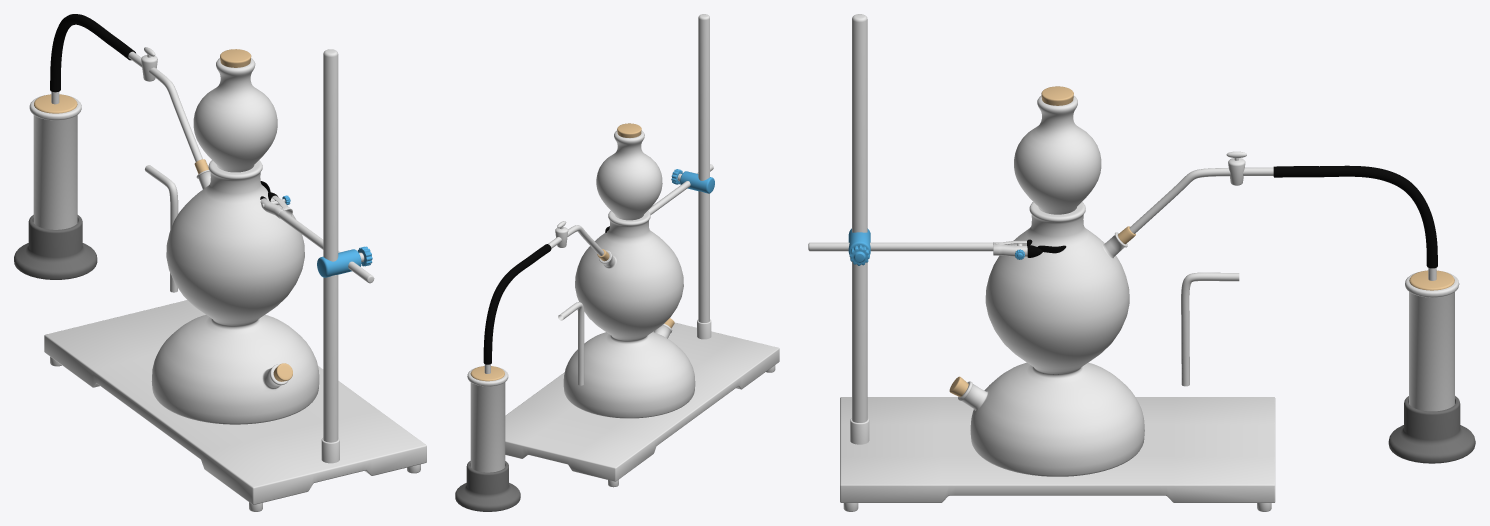
The model's file is Laborotory.fbx.
3 renders of one model, left to right at view 1: azimuth 30°, elevation 25°; view 2: azimuth 150°, elevation 25°; view 3: azimuth 270°, elevation 25°, orthographic. The views are drawn at different scales.
Parts seen in each view (by area): view 1: MainKipp, Shativ1, MainKipp2, Shativ2, Probirka, DT1, RezinkaTrubka, Shativ2.001, TrubkaSteklo1, TrubkaSteklo1.001, ProbkaProbirka, Probka3; view 2: MainKipp, Shativ1, MainKipp2, Shativ2, Probirka, DT1, RezinkaTrubka, Shativ2.001, TrubkaSteklo1.001, TrubkaSteklo1, ProbkaProbirka; view 3: MainKipp, Shativ1, MainKipp2, Shativ2, Probirka, DT1, RezinkaTrubka, Shativ2.001, TrubkaSteklo1.001, TrubkaSteklo1.
Boxes of the visible parts, x1,y1,x2,y2 form: MainKipp: (151,160,319,424); Shativ1: (44,300,426,511); MainKipp2: (193,58,277,172); Shativ2: (321,49,339,463); Probirka: (29,95,81,229); DT1: (14,215,97,279); RezinkaTrubka: (50,14,135,92); Shativ2.001: (278,211,374,283); TrubkaSteklo1: (128,51,202,161); TrubkaSteklo1.001: (145,165,178,292); ProbkaProbirka: (34,94,77,113); Probka3: (220,49,251,67); MainKipp: (563,211,695,418); Shativ1: (505,322,779,487); MainKipp2: (596,130,662,220); Shativ2: (697,14,711,339); Probirka: (467,367,508,472); DT1: (455,461,520,511); RezinkaTrubka: (483,244,551,364); Shativ2.001: (648,164,714,214); TrubkaSteklo1.001: (558,302,584,385); TrubkaSteklo1: (548,225,603,255); ProbkaProbirka: (470,366,504,381); MainKipp: (958,202,1144,476); Shativ1: (840,397,1275,511); MainKipp2: (1014,95,1101,214); Shativ2: (850,14,869,444); Probirka: (1405,272,1459,411); DT1: (1388,396,1475,463); RezinkaTrubka: (1273,165,1437,268); Shativ2.001: (808,228,993,254); TrubkaSteklo1.001: (1181,272,1239,386); TrubkaSteklo1: (1129,167,1273,233).
Bounding box in the file's own units: 3 × 7.16 × 9.55.
